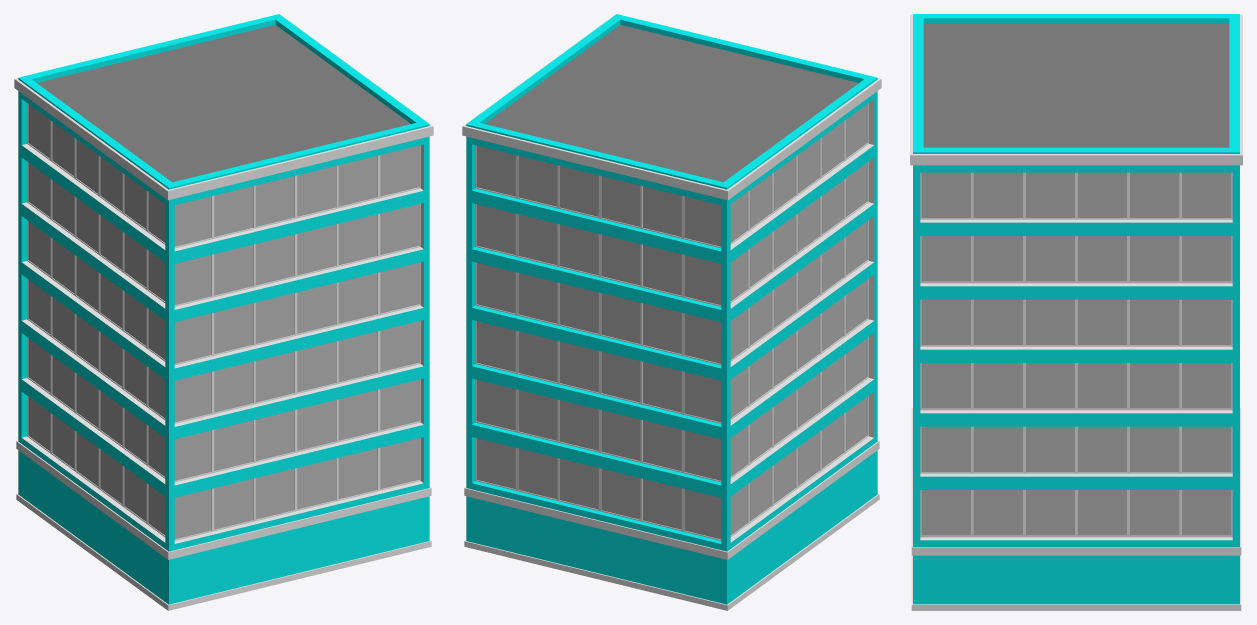
File: SM_House_04_01.FBX
The picture shows the model from 3 angles, left to right: view 1: azimuth 30°, elevation 25°; view 2: azimuth 150°, elevation 25°; view 3: azimuth 270°, elevation 25°; orthographic projection. The views are drawn at different scales.
Visible parts, largest first — view 1: SM_House_04_01; view 2: SM_House_04_01; view 3: SM_House_04_01.
Boxes of the visible parts, bbox=[...] form: SM_House_04_01: bbox=[14, 14, 433, 610]; SM_House_04_01: bbox=[462, 14, 881, 610]; SM_House_04_01: bbox=[910, 14, 1242, 610].
Size of the model in its own units: 6.11 by 9.28 by 6.11.
1 material, 1 textured.
